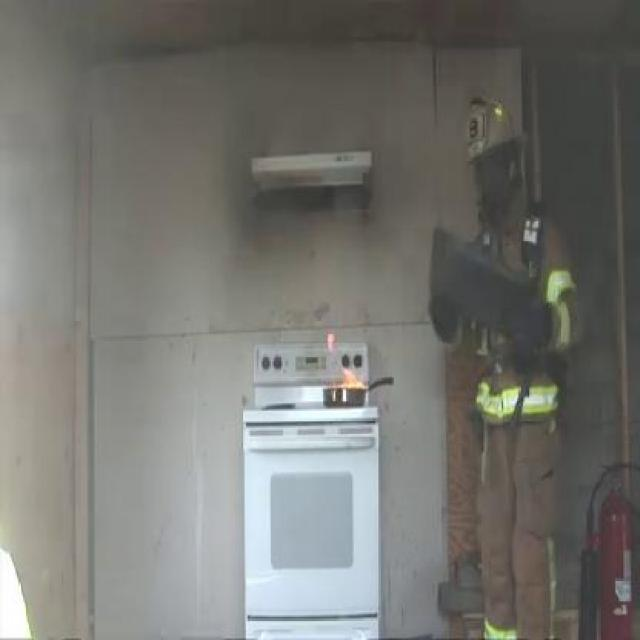fire: (325, 328, 363, 392)
